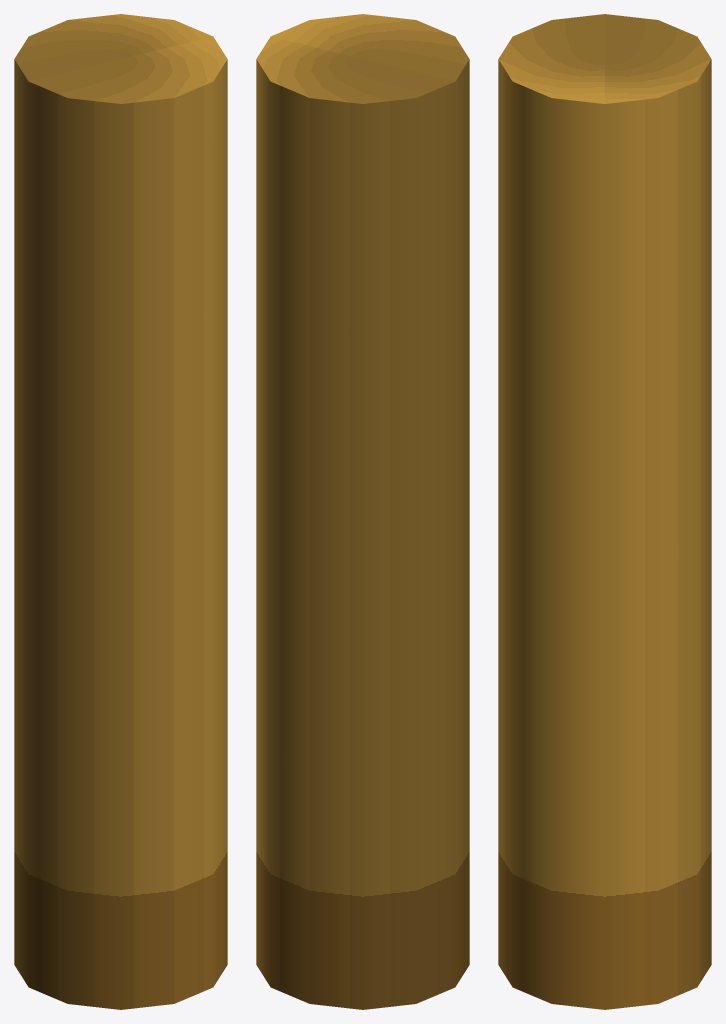
The model's file is casing.gltf.
3 views of the same model, side by side, from view 1: azimuth 30°, elevation 25°; view 2: azimuth 150°, elevation 25°; view 3: azimuth 270°, elevation 25° (orthographic).
Parts seen in each view (by area): view 1: casing; view 2: casing; view 3: casing.
Boxes of the visible parts, x1,y1,x2,y2 form: casing: (14, 14, 227, 1009); casing: (256, 14, 469, 1009); casing: (498, 14, 711, 1009).
Size of the model in its own units: 0.0096 by 0.045 by 0.0096.
Materials: 1 (1 with a texture image).
